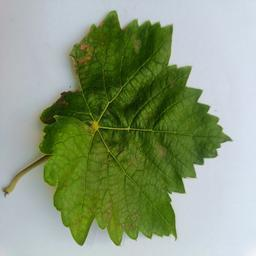Powdery-Mildew: (101, 204, 140, 232), (72, 42, 102, 73), (153, 138, 169, 155), (133, 33, 149, 49)
